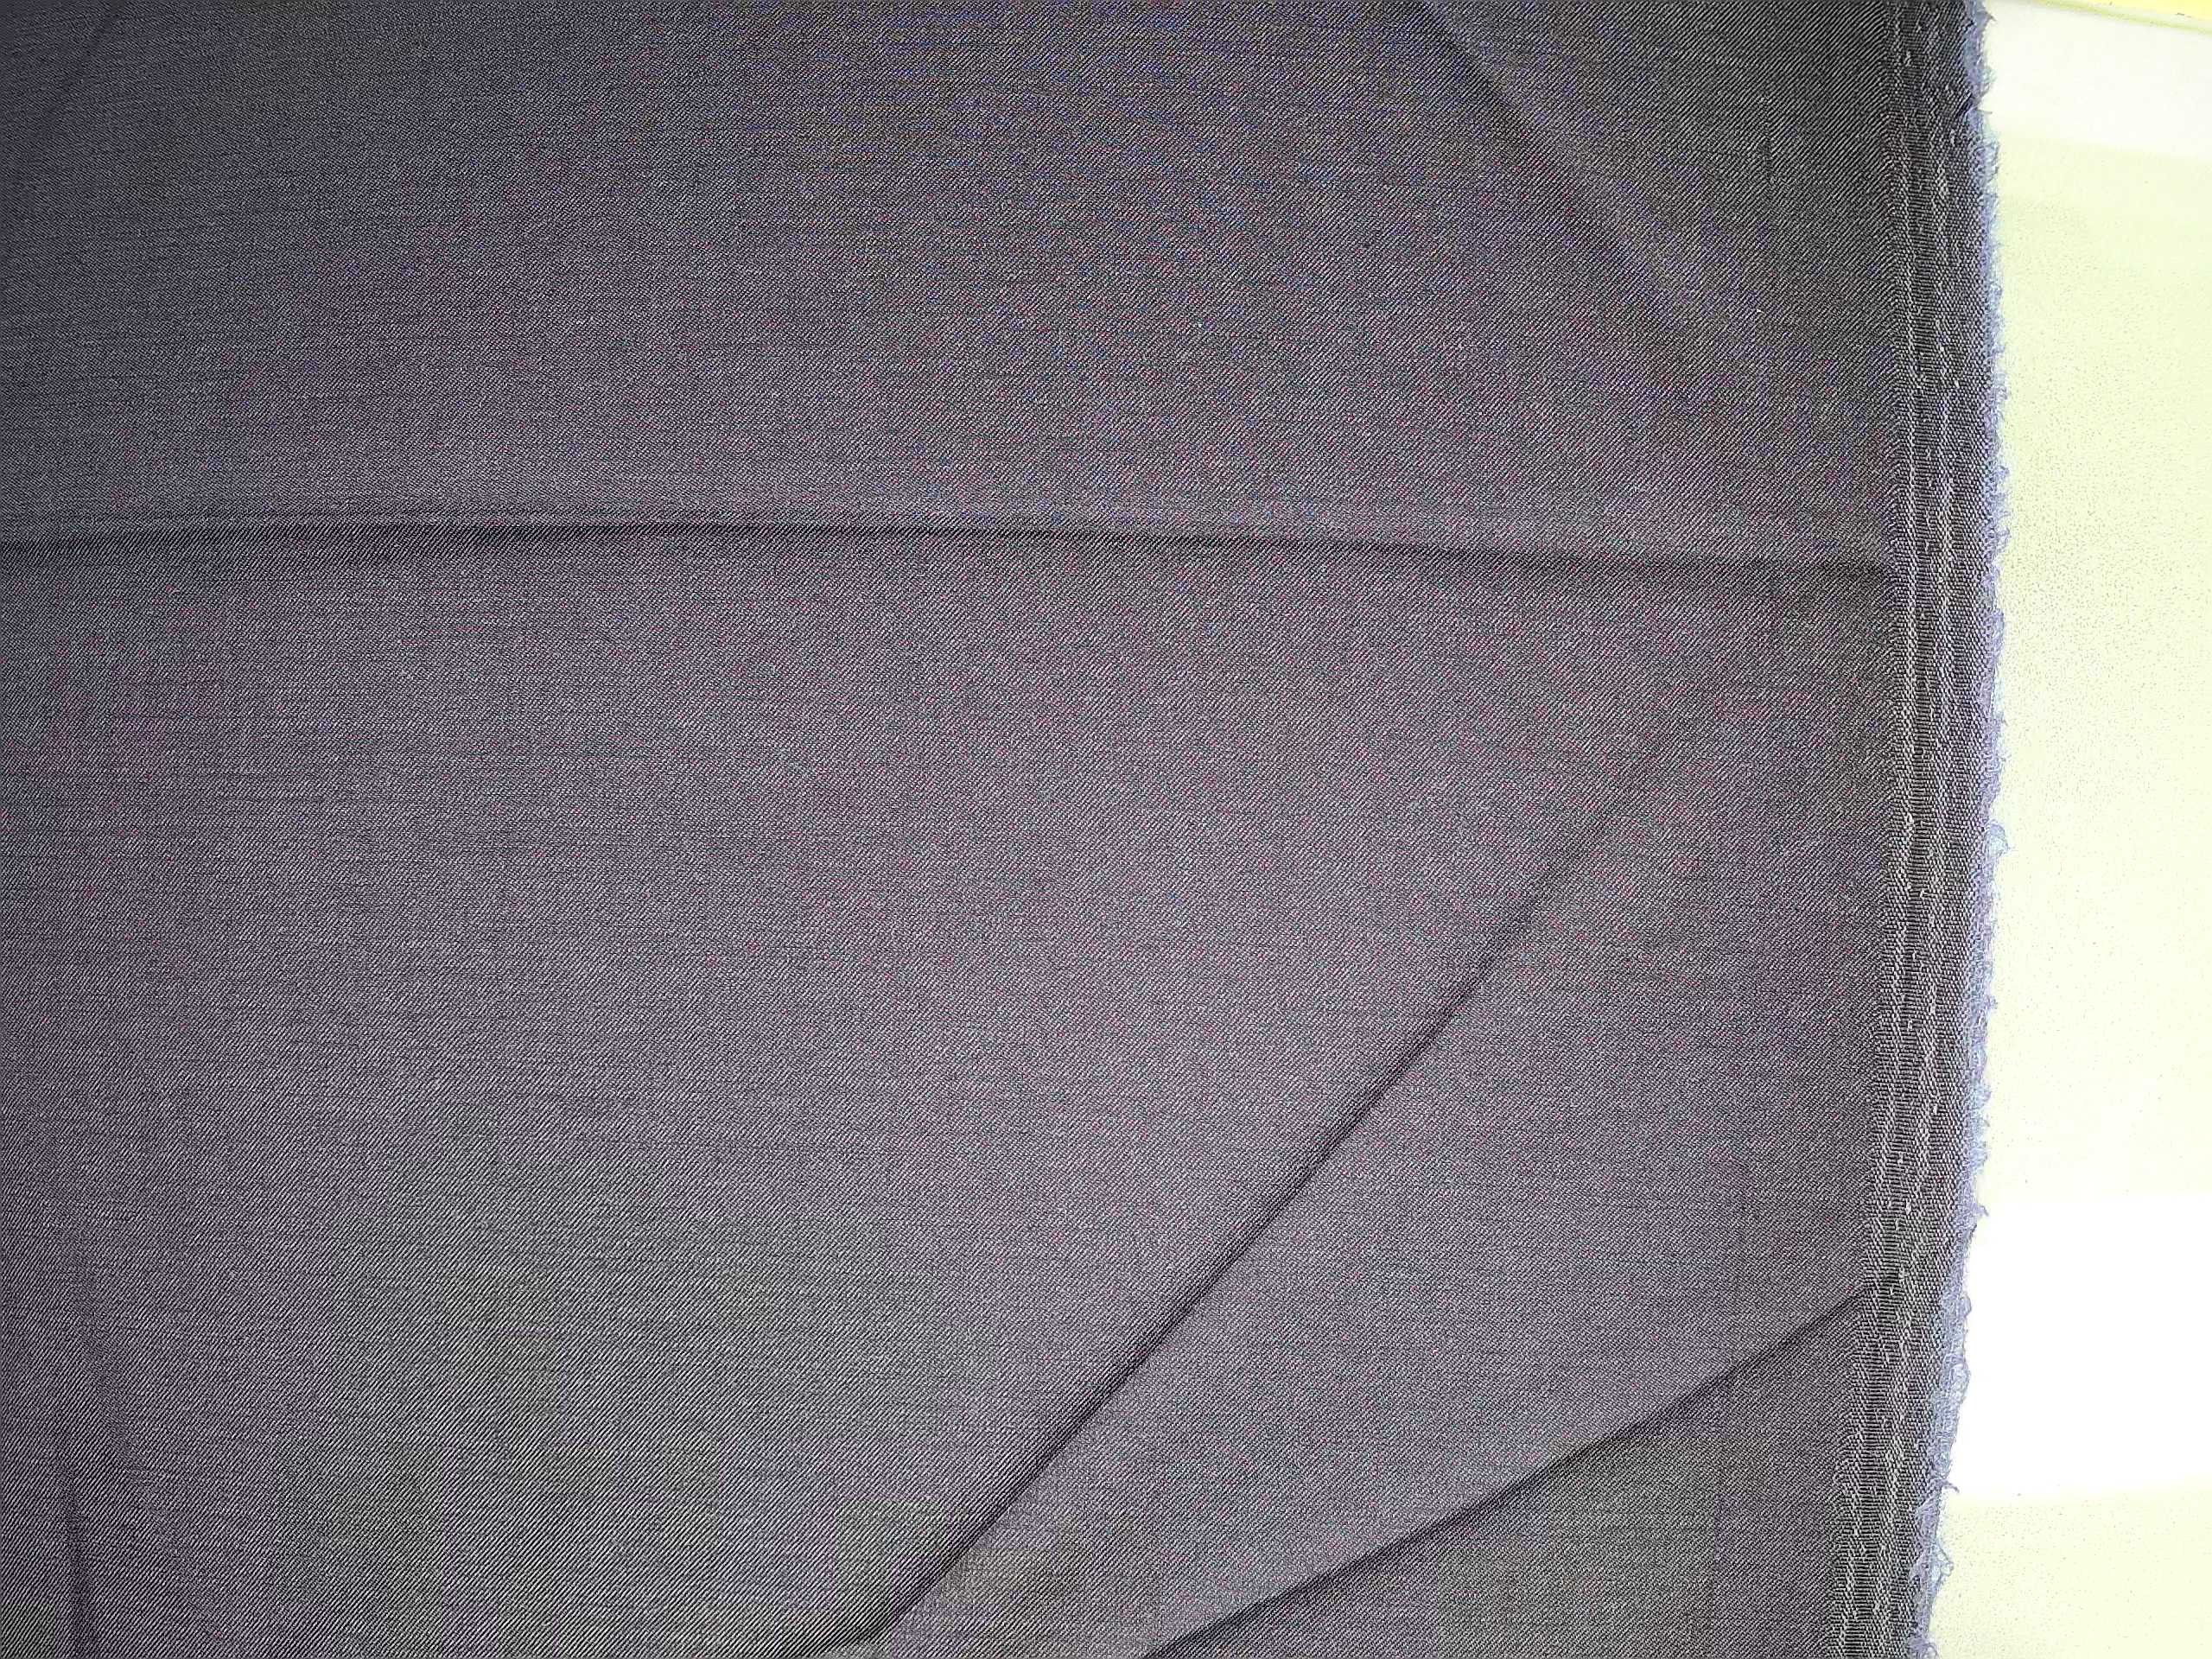others: (773, 680, 1177, 1073)
